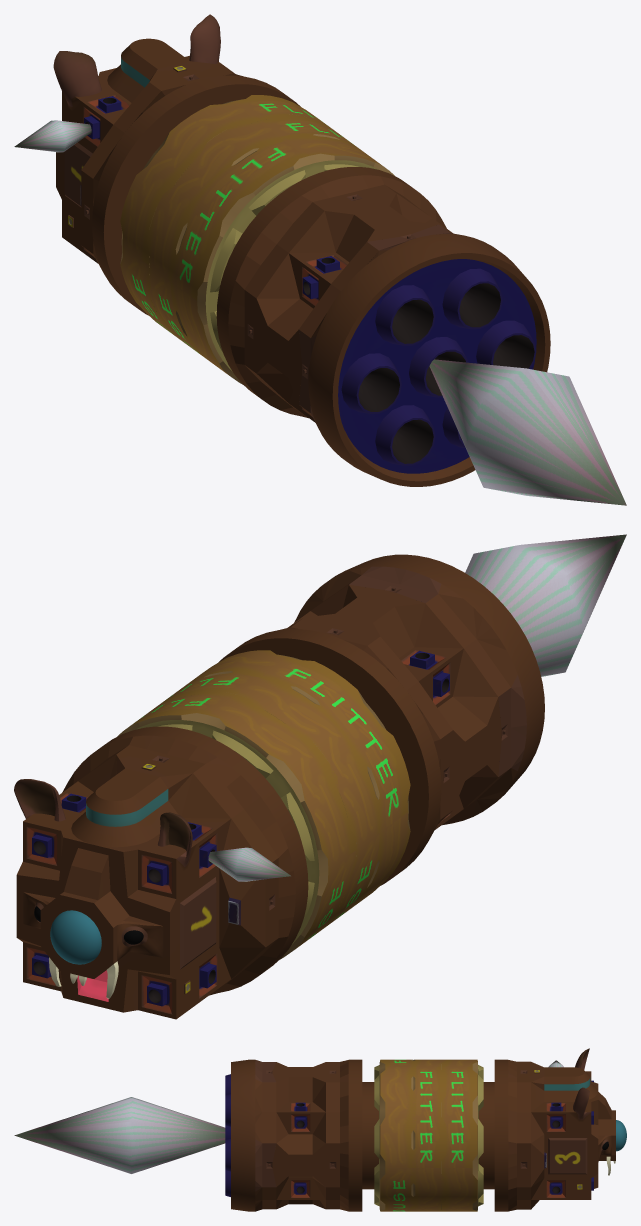
The model's file is ship.obj.
3 views of the same model, one above another, from view 1: azimuth 30°, elevation 25°; view 2: azimuth 150°, elevation 25°; view 3: azimuth 270°, elevation 25° (orthographic). The views are drawn at different scales.
Visible parts, largest first — view 1: ship, nozzleFlame_large_nozzleFlame_prototype, habitable_front_habitable, habitable_back_habitable, habitable_prototype_habitable, nozzleFlame_small_nozzleFlame_prototype; view 2: ship, habitable_back_habitable, nozzleFlame_large_nozzleFlame_prototype, habitable_front_habitable, habitable_prototype_habitable, nozzleFlame_small_nozzleFlame_prototype; view 3: ship, nozzleFlame_large_nozzleFlame_prototype, habitable_front_habitable, habitable_back_habitable, habitable_prototype_habitable.
Part boxes in pixels (x1=…): ship: x1=53, y1=14, x2=550, y2=486; nozzleFlame_large_nozzleFlame_prototype: x1=429, y1=359, x2=626, y2=505; habitable_front_habitable: x1=170, y1=133, x2=394, y2=384; habitable_back_habitable: x1=120, y1=95, x2=334, y2=339; habitable_prototype_habitable: x1=147, y1=114, x2=363, y2=355; nozzleFlame_small_nozzleFlame_prototype: x1=14, y1=120, x2=91, y2=152; ship: x1=14, y1=554, x2=544, y2=1019; habitable_back_habitable: x1=117, y1=692, x2=356, y2=959; nozzleFlame_large_nozzleFlame_prototype: x1=465, y1=534, x2=626, y2=676; habitable_front_habitable: x1=185, y1=650, x2=410, y2=912; habitable_prototype_habitable: x1=154, y1=670, x2=384, y2=928; nozzleFlame_small_nozzleFlame_prototype: x1=208, y1=847, x2=290, y2=881; ship: x1=225, y1=1048, x2=626, y2=1211; nozzleFlame_large_nozzleFlame_prototype: x1=14, y1=1097, x2=225, y2=1173; habitable_front_habitable: x1=374, y1=1059, x2=416, y2=1211; habitable_back_habitable: x1=441, y1=1059, x2=483, y2=1211; habitable_prototype_habitable: x1=410, y1=1059, x2=446, y2=1211.
Size of what is drawn, in the model's own units: 91.36 by 78.47 by 316.
